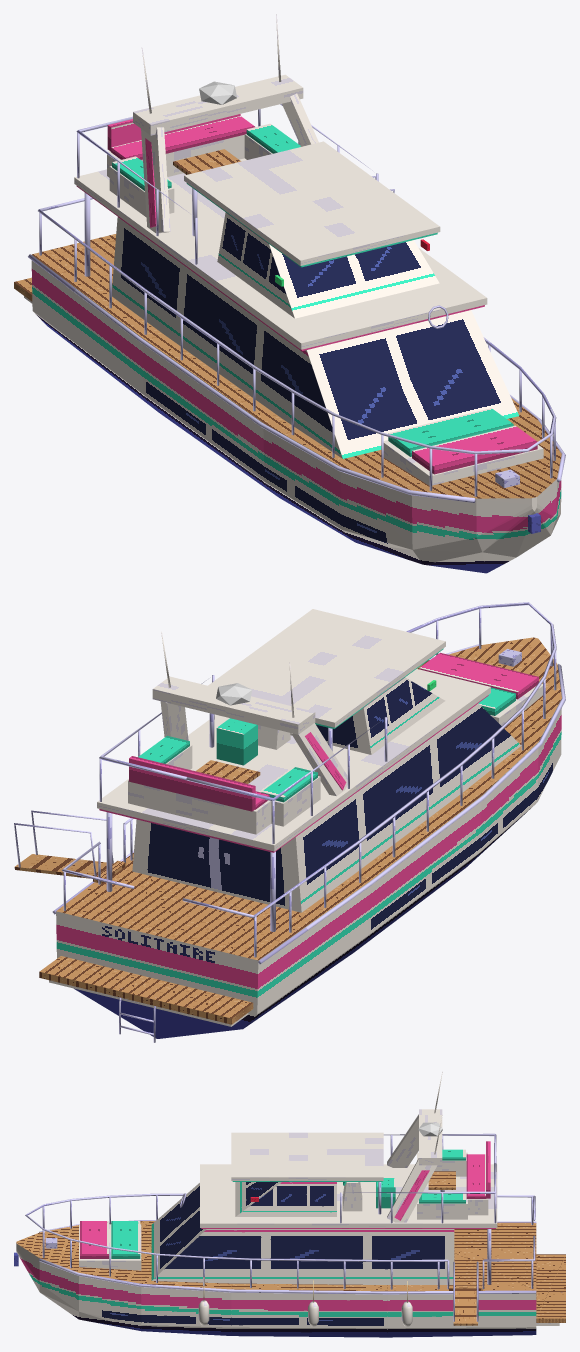
The model's file is Yacht.fbx.
3 renders of one model, top to bottom at view 1: azimuth 30°, elevation 25°; view 2: azimuth 150°, elevation 25°; view 3: azimuth 270°, elevation 25°, orthographic. The views are drawn at different scales.
Visible parts, largest first — view 1: Yacht hull, Yacht salon, Yacht upper roof, Yacht salon roof, Yacht upper cabin, Yacht arch top, Yacht sunpad 0, Yacht deck rail, Yacht sunpad 1, Yacht rub rail -1, Yacht fly bench cushion, Yacht foredeck trunk (+9 smaller); view 2: Yacht hull, Yacht salon, Yacht upper roof, Yacht salon roof, Yacht swim platform, Yacht upper cabin, Yacht arch top, Yacht fly bench, Yacht fly bench back, Yacht sunpad 0, Yacht deck rail, Yacht rub rail -1 (+16 smaller); view 3: Yacht hull, Yacht salon, Yacht upper roof, Yacht salon roof, Yacht upper cabin, Yacht swim platform, Yacht rub rail 1, Yacht deck rail, Yacht sunpad 1, Yacht arch top, Yacht sunpad 0, Yacht arch leg 1 (+13 smaller).
Part boxes in pixels (left/top/right/bottom): Yacht hull: left=31, top=234, right=561, bottom=573; Yacht salon: left=112, top=217, right=519, bottom=458; Yacht upper roof: left=184, top=141, right=440, bottom=265; Yacht salon roof: left=74, top=158, right=487, bottom=349; Yacht upper cabin: left=217, top=212, right=439, bottom=318; Yacht arch top: left=133, top=74, right=303, bottom=135; Yacht sunpad 0: left=412, top=425, right=537, bottom=474; Yacht deck rail: left=38, top=209, right=556, bottom=454; Yacht sunpad 1: left=388, top=408, right=513, bottom=456; Yacht rub rail -1: left=28, top=254, right=475, bottom=502; Yacht fly bench cushion: left=111, top=116, right=254, bottom=159; Yacht foredeck trunk: left=383, top=440, right=543, bottom=485; Yacht hull: left=56, top=637, right=561, bottom=1038; Yacht salon: left=132, top=703, right=521, bottom=912; Yacht upper roof: left=208, top=609, right=445, bottom=727; Yacht salon roof: left=97, top=669, right=490, bottom=851; Yacht swim platform: left=39, top=956, right=253, bottom=1024; Yacht upper cabin: left=290, top=677, right=445, bottom=754; Yacht arch top: left=152, top=676, right=315, bottom=734; Yacht fly bench: left=128, top=780, right=271, bottom=834; Yacht fly bench back: left=129, top=756, right=255, bottom=811; Yacht sunpad 0: left=419, top=652, right=538, bottom=699; Yacht deck rail: left=123, top=602, right=556, bottom=917; Yacht rub rail -1: left=258, top=664, right=565, bottom=964; Yacht hull: left=16, top=1221, right=536, bottom=1337; Yacht salon: left=151, top=1183, right=454, bottom=1284; Yacht upper roof: left=231, top=1132, right=383, bottom=1180; Yacht salon roof: left=200, top=1164, right=497, bottom=1227; Yacht upper cabin: left=235, top=1182, right=336, bottom=1216; Yacht swim platform: left=536, top=1254, right=565, bottom=1322; Yacht rub rail 1: left=39, top=1258, right=536, bottom=1294; Yacht deck rail: left=25, top=1193, right=533, bottom=1261; Yacht sunpad 1: left=111, top=1221, right=140, bottom=1258; Yacht arch top: left=419, top=1109, right=442, bottom=1165; Yacht sunpad 0: left=80, top=1221, right=108, bottom=1258; Yacht arch leg 1: left=387, top=1158, right=437, bottom=1222.
Size of the model in its own units: 5.94 by 6.82 by 14.12.
Materials: 22 (21 with a texture image).
